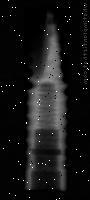DENTSPLY: (24, 7, 70, 191)
